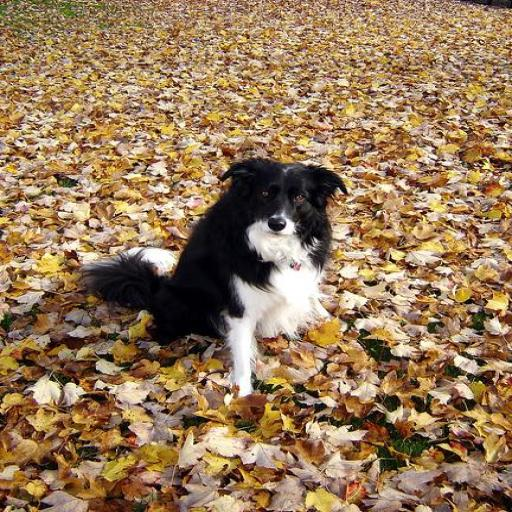dog_face: (212, 155, 359, 240)
